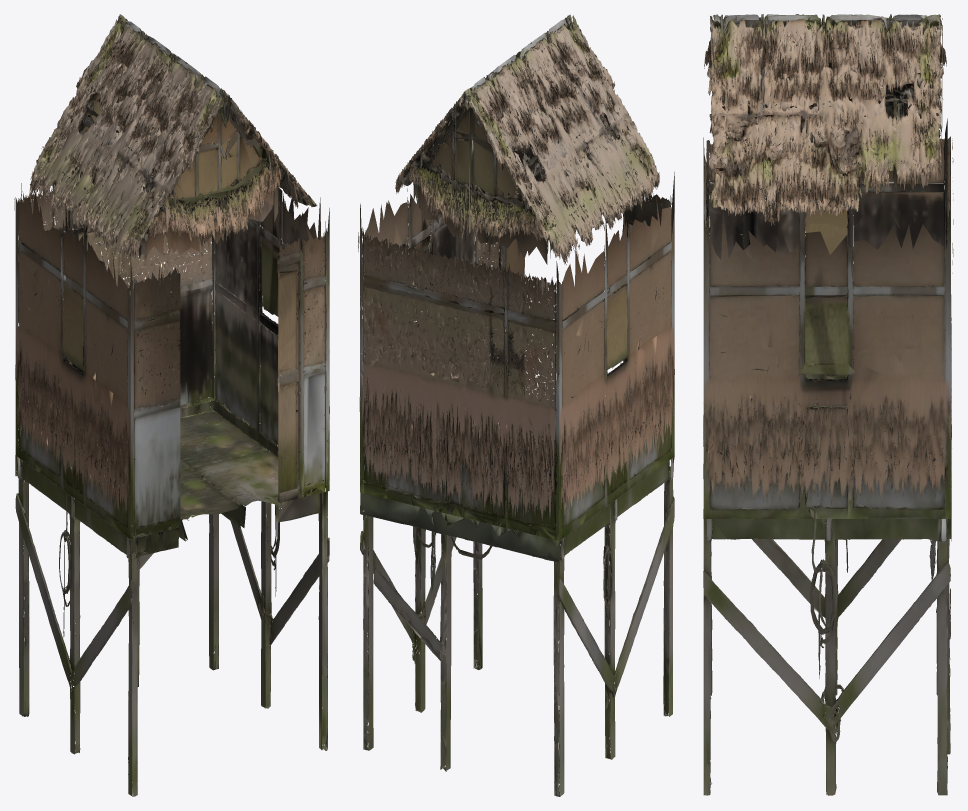
Rendered from house-game.glb.
3 renders of one model, left to right at view 1: azimuth 30°, elevation 25°; view 2: azimuth 150°, elevation 25°; view 3: azimuth 270°, elevation 25°, orthographic. The views are drawn at different scales.
Parts seen in each view (by area): view 1: imported-house-walls, imported-house-roof, imported-house-front-left, imported-house-front-right; view 2: imported-house-walls, imported-house-roof, imported-house-front-left, imported-house-front-right; view 3: imported-house-walls, imported-house-roof, imported-house-front-right, imported-house-front-left.
Boxes of the visible parts, bbox=[...] form: imported-house-walls: bbox=[14, 183, 326, 754]; imported-house-roof: bbox=[29, 14, 317, 260]; imported-house-front-left: bbox=[118, 258, 180, 796]; imported-house-front-right: bbox=[272, 208, 329, 750]; imported-house-walls: bbox=[358, 188, 674, 796]; imported-house-roof: bbox=[395, 14, 659, 266]; imported-house-front-left: bbox=[622, 172, 674, 716]; imported-house-front-right: bbox=[468, 207, 524, 669]; imported-house-walls: bbox=[709, 118, 953, 795]; imported-house-roof: bbox=[704, 14, 946, 225]; imported-house-front-right: bbox=[703, 213, 728, 795]; imported-house-front-left: bbox=[703, 137, 726, 695].
Bounding box in the file's own units: 2.02 × 6.55 × 2.03.
Materials: 1 (1 with a texture image).
